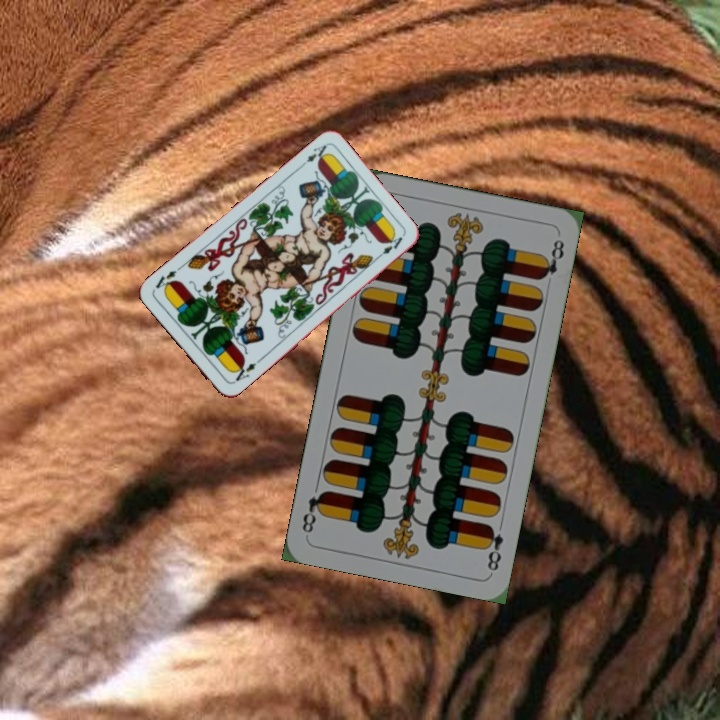E8: (480, 520, 506, 574)
EA: (296, 141, 331, 171), (228, 358, 259, 386)
